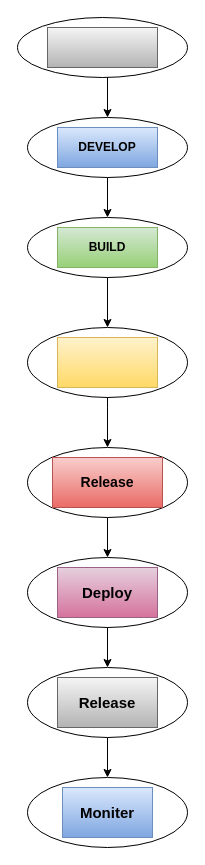
Image size: 205x865. Some labels were removed from this diagram. Each missing label, with the box of its shape:
PLAN: (46, 26, 158, 68)
TEST: (56, 336, 158, 388)
